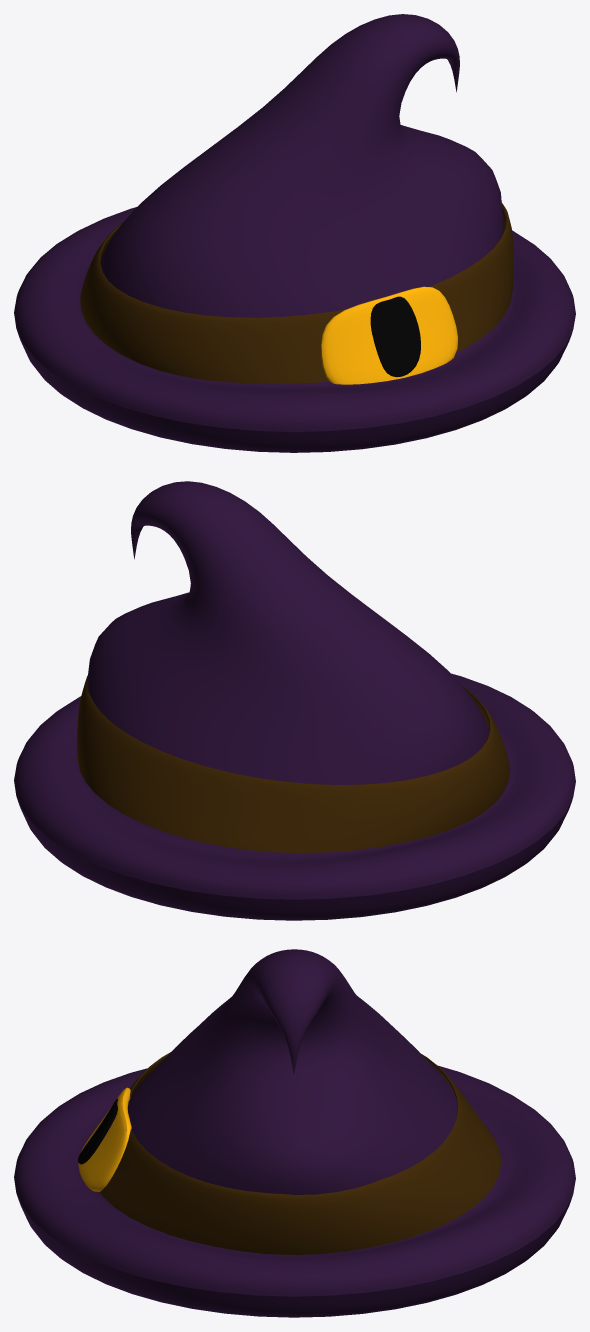
Rendered from wizardhat.glb.
The picture shows the model from 3 angles, top to bottom: view 1: azimuth 30°, elevation 25°; view 2: azimuth 150°, elevation 25°; view 3: azimuth 270°, elevation 25°; orthographic projection.
Parts seen in each view (by area): view 1: Node; view 2: Node; view 3: Node.
Boxes of the visible parts, x1,y1,x2,y2 form: Node: (14,14,575,452); Node: (14,481,575,920); Node: (14,949,575,1317).
Bounding box in the file's own units: 1.81 × 1.06 × 1.81.
